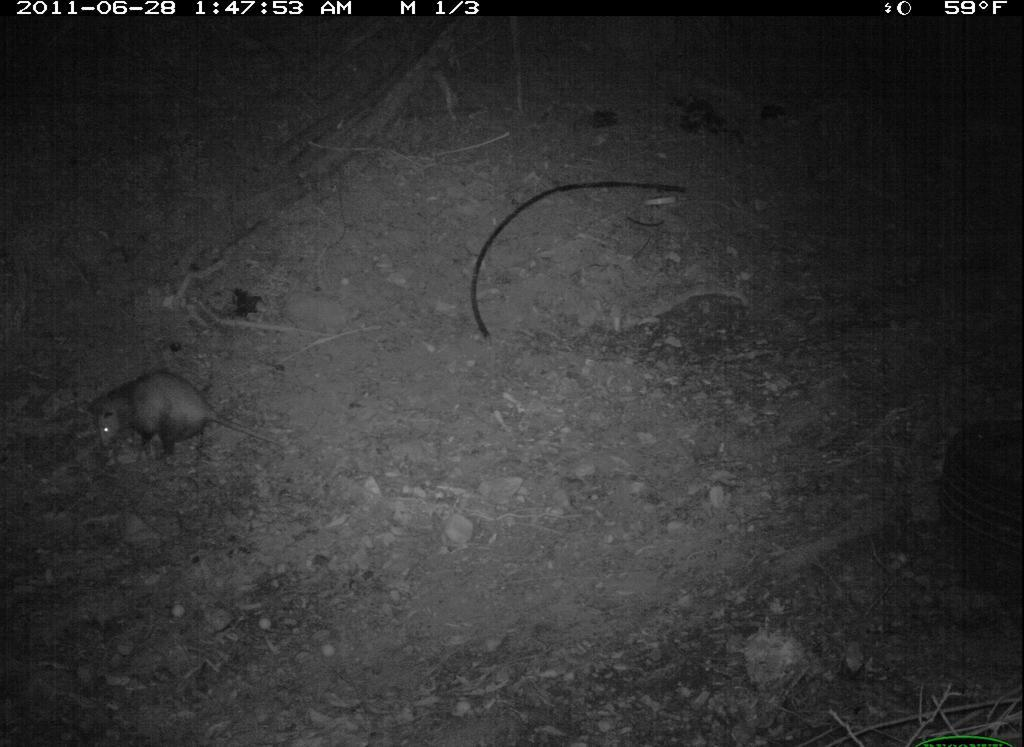opossum: (88, 367, 292, 473)
